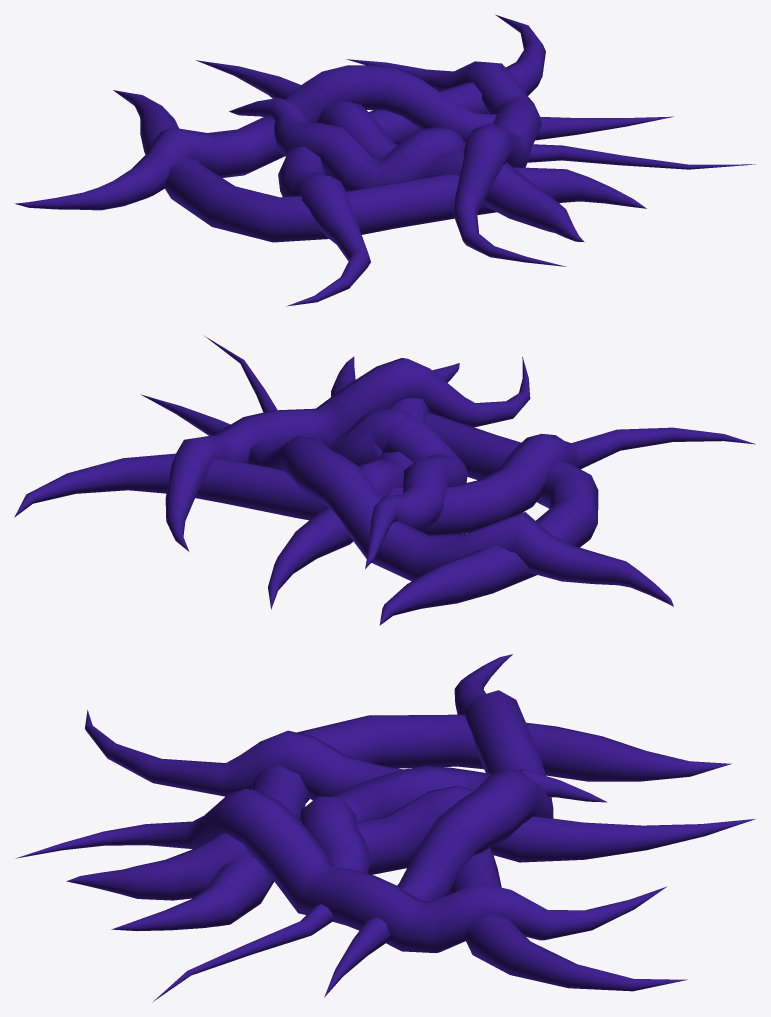
The model's file is VinesModel.fbx.
3 views of the same model, one above another, from view 1: azimuth 30°, elevation 25°; view 2: azimuth 150°, elevation 25°; view 3: azimuth 270°, elevation 25° (orthographic). The views are drawn at different scales.
Visible parts, largest first — view 1: ranken; view 2: ranken; view 3: ranken.
Boxes of the visible parts, bbox=[...] form: ranken: bbox=[14, 14, 755, 306]; ranken: bbox=[14, 336, 755, 625]; ranken: bbox=[15, 654, 755, 1002].
Bounding box in the file's own units: 0.2526 × 0.0388 × 0.2249.
